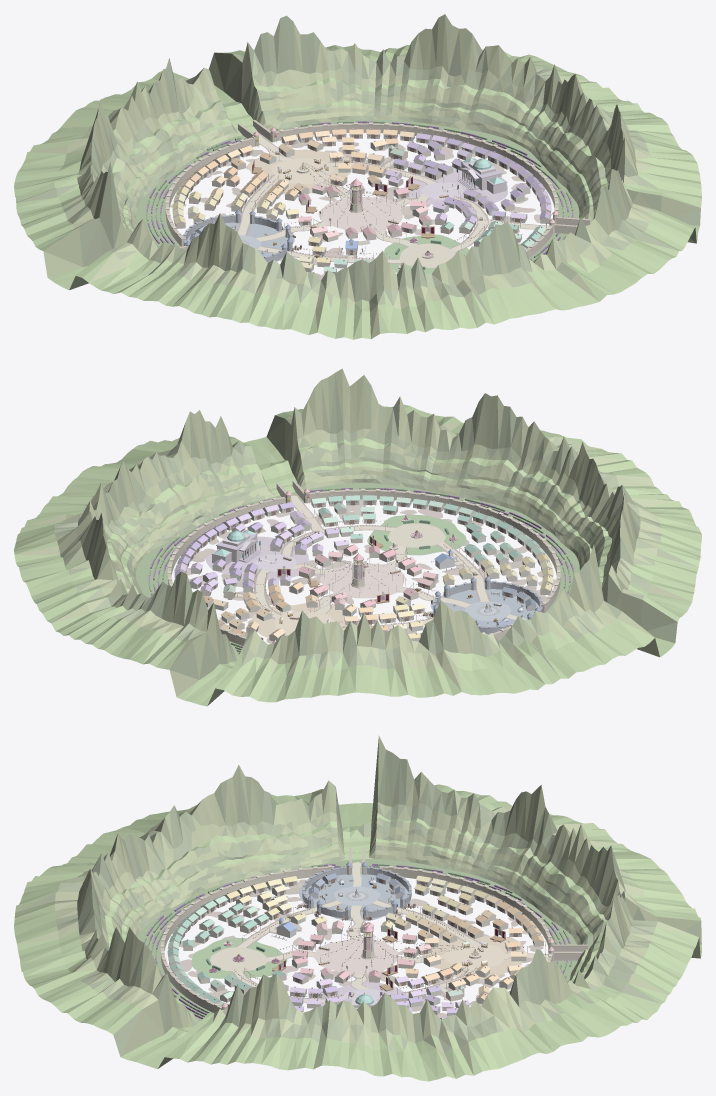
The model's file is map_city_lumeria.glb.
3 views of the same model, one above another, from view 1: azimuth 30°, elevation 25°; view 2: azimuth 150°, elevation 25°; view 3: azimuth 270°, elevation 25° (orthographic).
Parts seen in each view (by area): view 1: Z_city_lumeria_penhascos, Z_city_lumeria_det_chao_-4_0, Z_city_lumeria_praca_praca_sinos, Z_city_lumeria_det_obj_1_-2, Z_city_lumeria_det_obj_0_-3, Z_city_lumeria_det_obj_2_-2, Z_city_lumeria_det_obj_0_-2, Z_city_lumeria_det_obj_1_-3, Z_city_lumeria_det_obj_-1_-3, Z_city_lumeria_det_alto_2_0, Z_city_lumeria_det_obj_2_-1, Z_city_lumeria_det_obj_-2_-2 (+26 smaller); view 2: Z_city_lumeria_penhascos, Z_city_lumeria_det_chao_-4_0, Z_city_lumeria_praca_praca_sinos, Z_city_lumeria_det_obj_-1_2, Z_city_lumeria_det_obj_-2_1, Z_city_lumeria_chao_jardim, Z_city_lumeria_det_obj_1_2, Z_city_lumeria_det_obj_1_1, Z_city_lumeria_det_obj_0_2, Z_city_lumeria_det_alto_2_0, Z_city_lumeria_det_obj_1_0, Z_city_lumeria_det_obj_0_-2 (+25 smaller); view 3: Z_city_lumeria_penhascos, Z_city_lumeria_det_chao_-4_0, Z_city_lumeria_praca_praca_sinos, Z_city_lumeria_det_obj_-2_1, Z_city_lumeria_chao_jardim, Z_city_lumeria_det_obj_-3_-1, Z_city_lumeria_chao_lucidos, Z_city_lumeria_det_obj_0_-2, Z_city_lumeria_det_obj_-2_-2, Z_city_lumeria_det_obj_-1_2, Z_city_lumeria_det_obj_-3_0, Z_city_lumeria_det_obj_-3_-2 (+21 smaller).
Boxes of the visible parts, x1,y1,x2,y2 form: Z_city_lumeria_penhascos: [14, 14, 701, 339]; Z_city_lumeria_det_chao_-4_0: [136, 119, 579, 260]; Z_city_lumeria_praca_praca_sinos: [318, 197, 402, 232]; Z_city_lumeria_det_obj_1_-2: [367, 130, 445, 170]; Z_city_lumeria_det_obj_0_-3: [270, 123, 350, 157]; Z_city_lumeria_det_obj_2_-2: [412, 125, 506, 154]; Z_city_lumeria_det_obj_0_-2: [296, 145, 391, 211]; Z_city_lumeria_det_obj_1_-3: [318, 121, 412, 144]; Z_city_lumeria_det_obj_-1_-3: [205, 131, 279, 178]; Z_city_lumeria_det_alto_2_0: [457, 157, 506, 194]; Z_city_lumeria_det_obj_2_-1: [451, 142, 540, 175]; Z_city_lumeria_det_obj_-2_-2: [176, 174, 261, 211]; Z_city_lumeria_penhascos: [14, 368, 701, 706]; Z_city_lumeria_det_chao_-4_0: [135, 482, 579, 651]; Z_city_lumeria_praca_praca_sinos: [320, 563, 404, 598]; Z_city_lumeria_det_obj_-1_2: [444, 500, 526, 543]; Z_city_lumeria_det_obj_-2_1: [457, 542, 549, 581]; Z_city_lumeria_chao_jardim: [367, 515, 466, 555]; Z_city_lumeria_det_obj_1_2: [313, 487, 407, 515]; Z_city_lumeria_det_obj_1_1: [290, 497, 372, 538]; Z_city_lumeria_det_obj_0_2: [382, 490, 461, 523]; Z_city_lumeria_det_alto_2_0: [211, 529, 261, 565]; Z_city_lumeria_det_obj_1_0: [270, 521, 324, 560]; Z_city_lumeria_det_obj_0_-2: [235, 563, 377, 623]; Z_city_lumeria_penhascos: [14, 735, 701, 1081]; Z_city_lumeria_det_chao_-4_0: [137, 859, 577, 1021]; Z_city_lumeria_praca_praca_sinos: [314, 938, 398, 974]; Z_city_lumeria_det_obj_-2_1: [218, 890, 292, 927]; Z_city_lumeria_chao_jardim: [191, 938, 287, 978]; Z_city_lumeria_det_obj_-3_-1: [357, 861, 432, 898]; Z_city_lumeria_chao_lucidos: [298, 874, 408, 920]; Z_city_lumeria_det_obj_0_-2: [345, 947, 499, 985]; Z_city_lumeria_det_obj_-2_-2: [421, 890, 496, 928]; Z_city_lumeria_det_obj_-1_2: [150, 919, 224, 953]; Z_city_lumeria_det_obj_-3_0: [282, 861, 360, 898]; Z_city_lumeria_det_obj_-3_-2: [423, 868, 495, 896].
Size of the model in its own units: 362 by 60.06 by 361.
